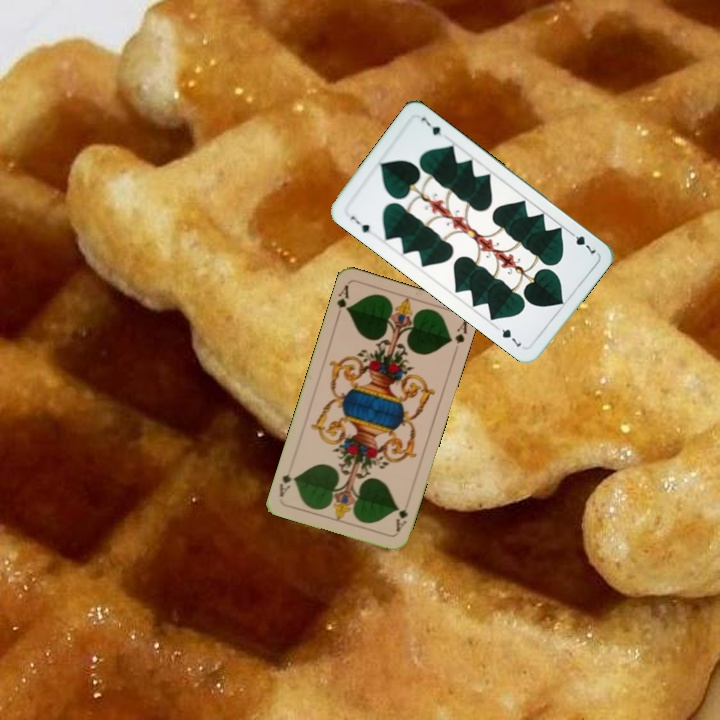G7: (565, 227, 599, 259), (346, 212, 373, 236)
GA: (332, 281, 352, 321), (391, 504, 410, 536)
